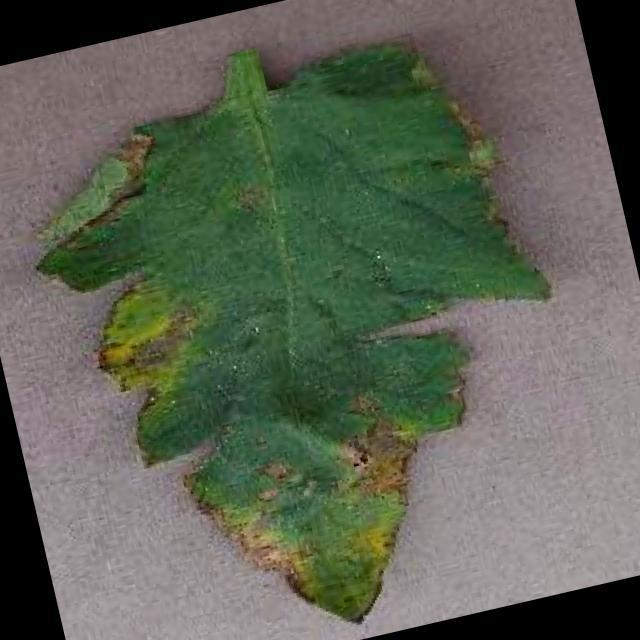Tomato bacterial spot leaf: (0, 8, 620, 640)
